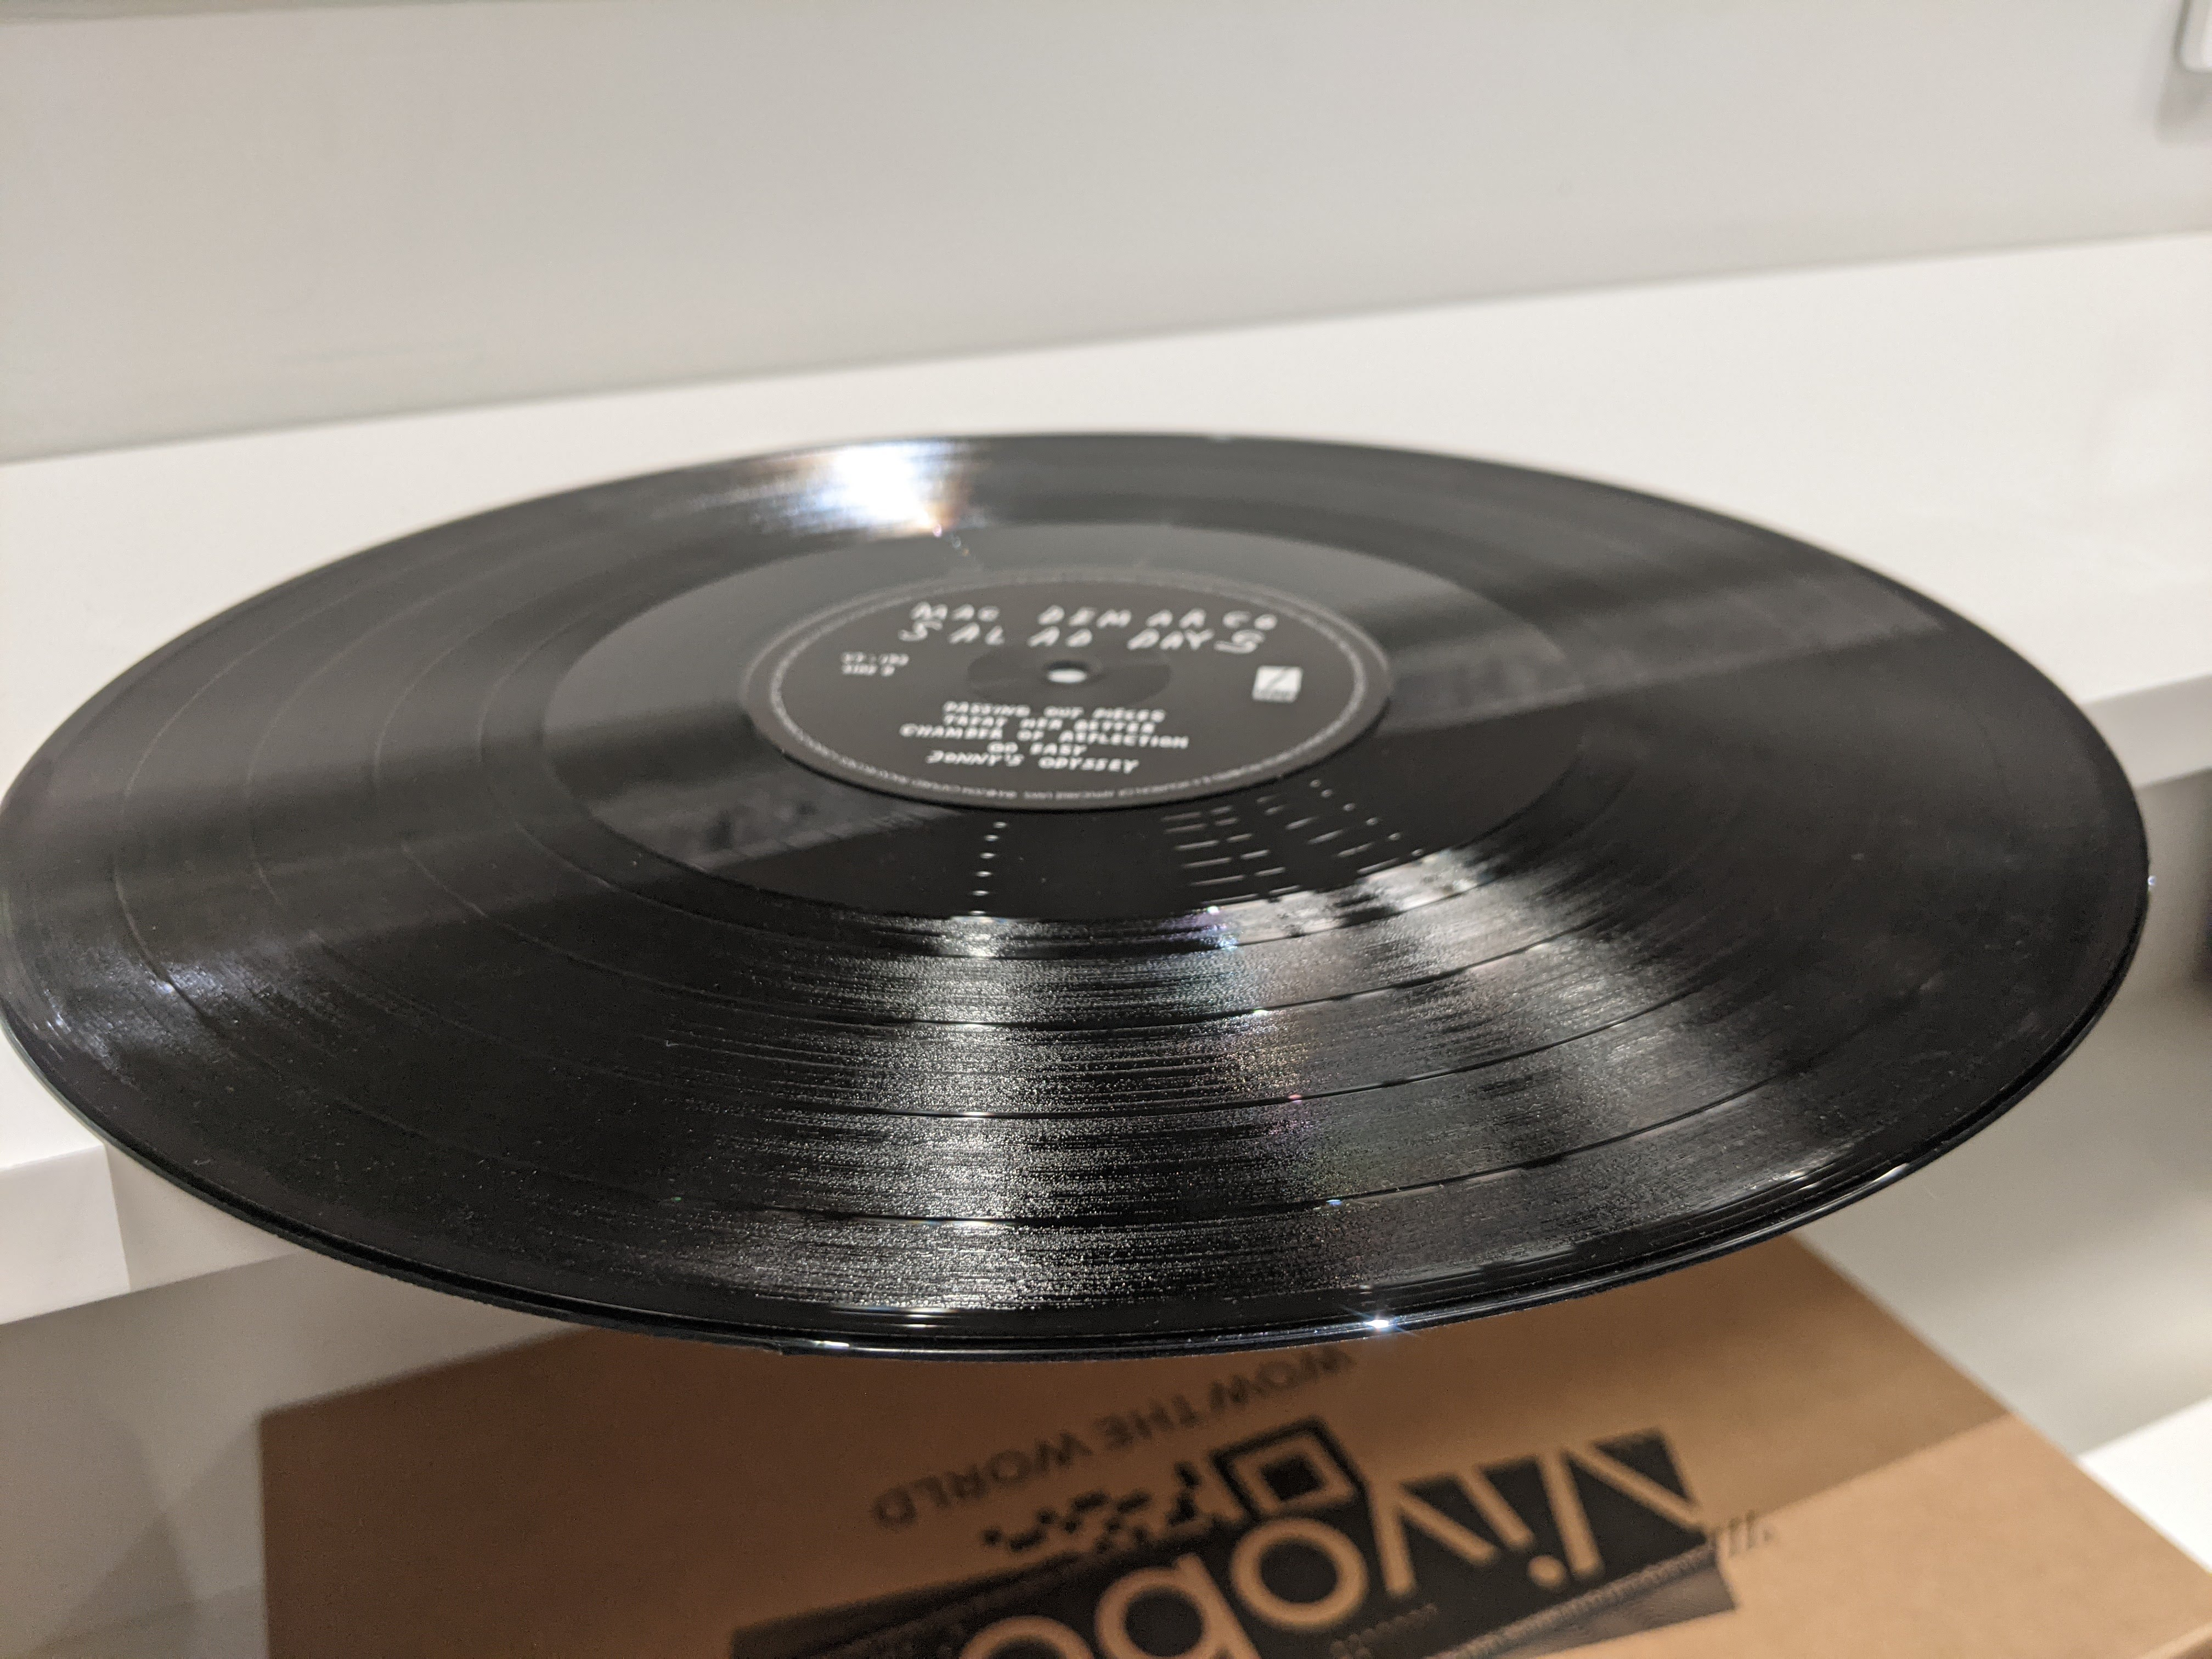song_edge: (82, 845, 221, 1044), (214, 786, 305, 913), (354, 774, 428, 885), (470, 756, 531, 843)
